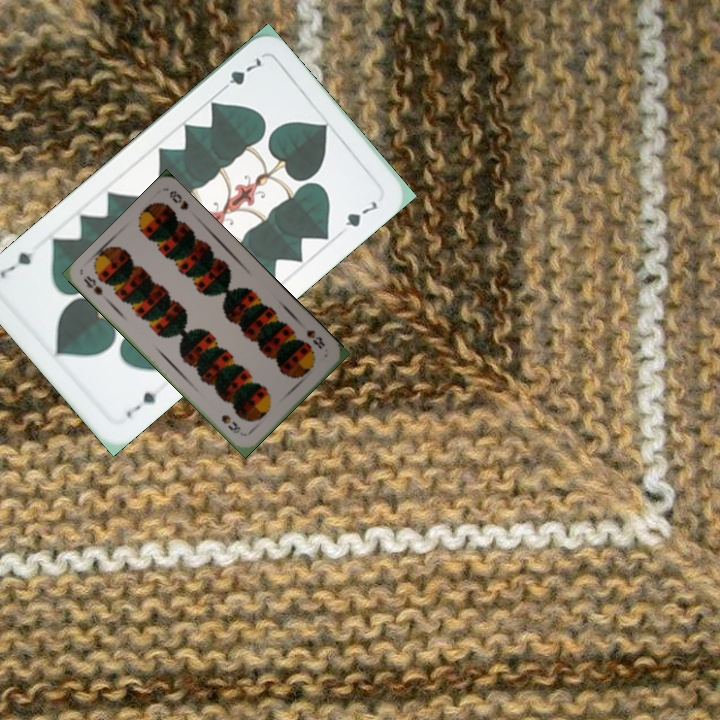G7: (215, 51, 264, 95), (122, 387, 160, 421)
S8: (79, 272, 106, 298), (302, 326, 328, 352)
